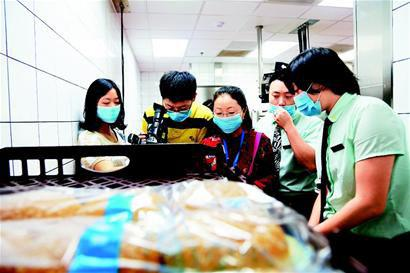OK: (293, 83, 327, 119), (93, 91, 126, 124), (214, 102, 242, 133), (167, 100, 193, 123)
WRONG: (269, 92, 297, 120)
